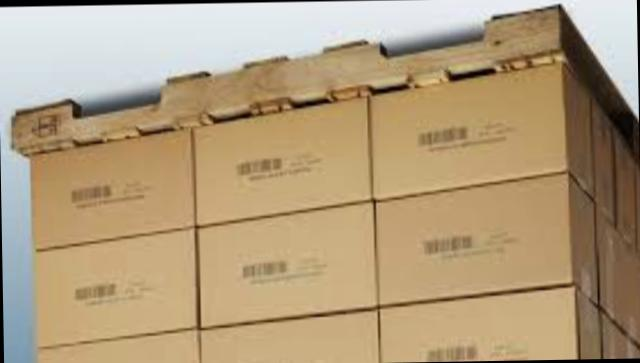cardboard paper: (15, 12, 640, 363)
